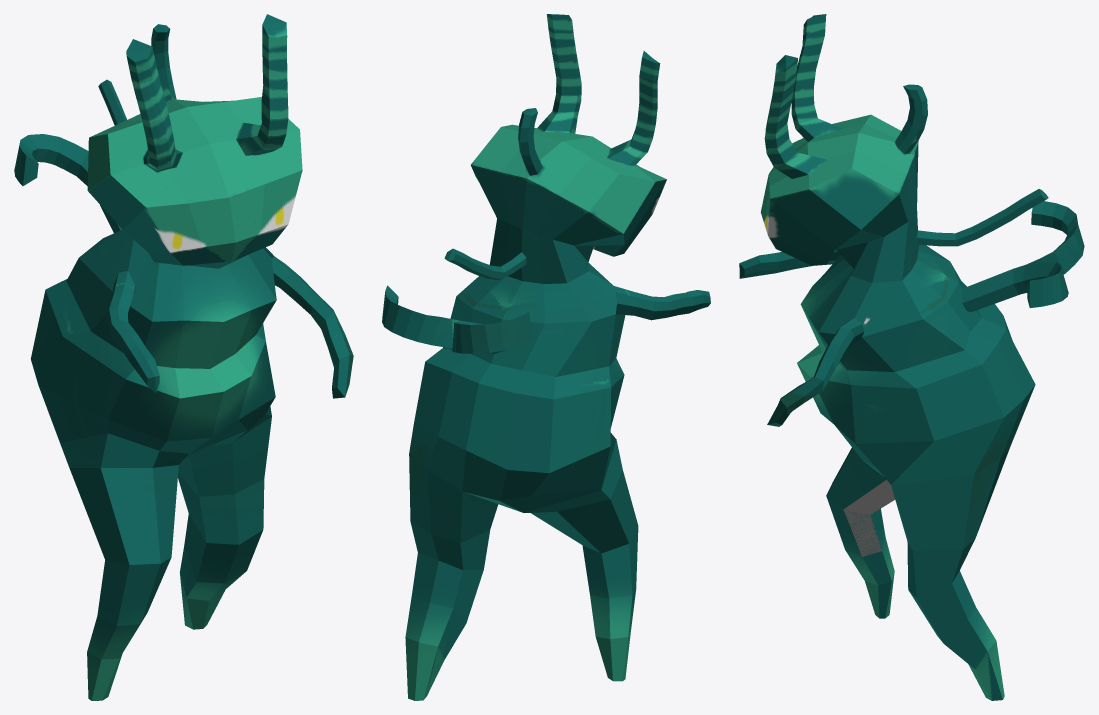
Rendered from monstruo1_caminar_9.obj.
The picture shows the model from 3 angles, left to right: view 1: azimuth 30°, elevation 25°; view 2: azimuth 150°, elevation 25°; view 3: azimuth 270°, elevation 25°; orthographic projection. The views are drawn at different scales.
Visible parts, largest first — view 1: Monstruo_basico; view 2: Monstruo_basico; view 3: Monstruo_basico.
Part boxes in pixels (x1,y1,x2,y2): Monstruo_basico: (14,14,353,700); Monstruo_basico: (382,14,710,700); Monstruo_basico: (739,14,1084,700).
Size of the model in its own units: 0.3592 by 1.04 by 0.521.
